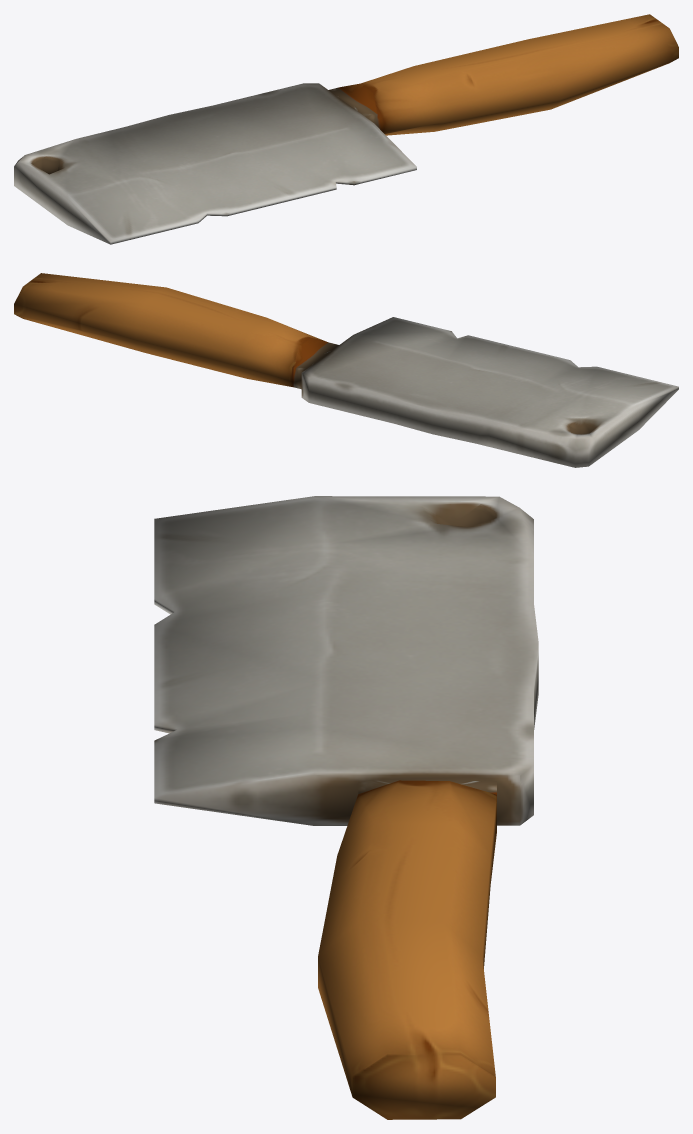
Rendered from ButcherKnife.fbx.
3 renders of one model, top to bottom at view 1: azimuth 30°, elevation 25°; view 2: azimuth 150°, elevation 25°; view 3: azimuth 270°, elevation 25°, orthographic. The views are drawn at different scales.
Parts seen in each view (by area): view 1: U_ButcherKnife; view 2: U_ButcherKnife; view 3: U_ButcherKnife.
Boxes of the visible parts, bbox=[...] form: U_ButcherKnife: bbox=[14, 14, 678, 244]; U_ButcherKnife: bbox=[14, 273, 678, 467]; U_ButcherKnife: bbox=[154, 496, 538, 1119].
Bounding box in the file's own units: 61.87 × 5.16 × 17.77.
1 material, 1 textured.
